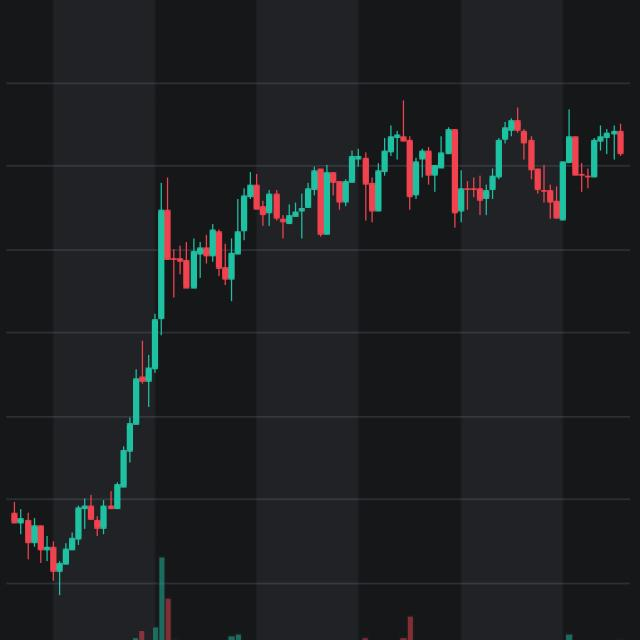Resistance-breakout: (8, 158, 321, 586)
